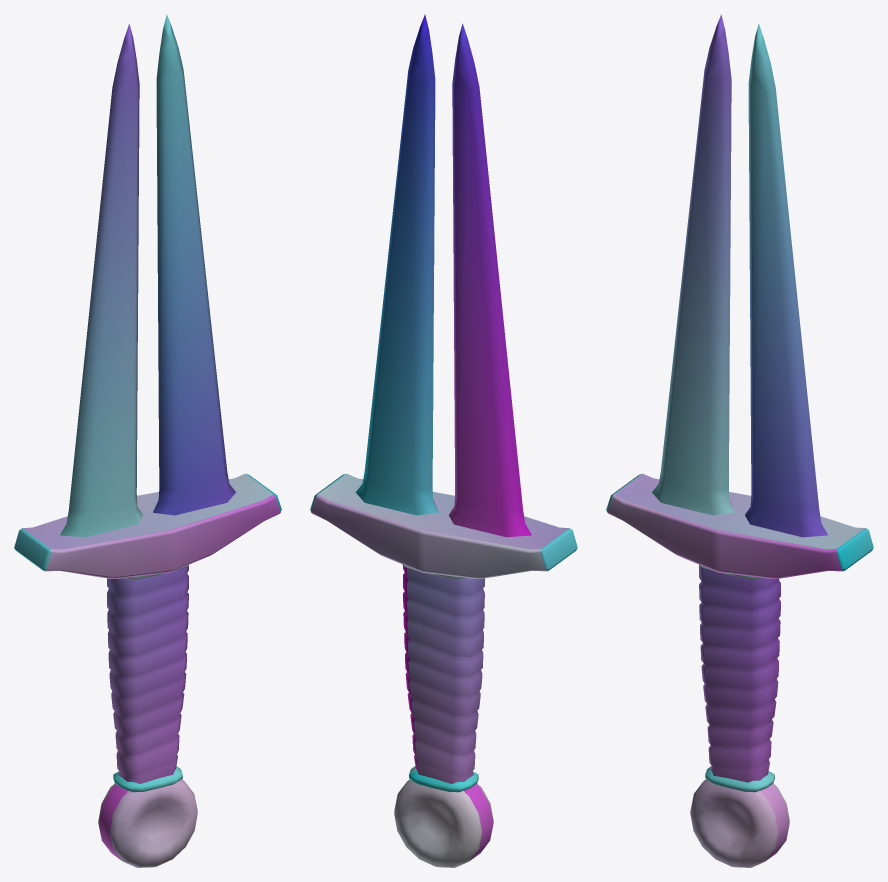
The picture shows the model from 3 angles, left to right: view 1: azimuth 30°, elevation 25°; view 2: azimuth 150°, elevation 25°; view 3: azimuth 330°, elevation 25°; orthographic projection.
Visible parts, largest first — view 1: SM_Dagger_Adamant_1H_01_LOD0; view 2: SM_Dagger_Adamant_1H_01_LOD0; view 3: SM_Dagger_Adamant_1H_01_LOD0.
Boxes of the visible parts, x1=… form: SM_Dagger_Adamant_1H_01_LOD0: x1=14, y1=14, x2=281, y2=867; SM_Dagger_Adamant_1H_01_LOD0: x1=310, y1=14, x2=577, y2=867; SM_Dagger_Adamant_1H_01_LOD0: x1=606, y1=14, x2=873, y2=867.
Bounding box in the file's own units: 0.1557 × 0.5237 × 0.0532.
